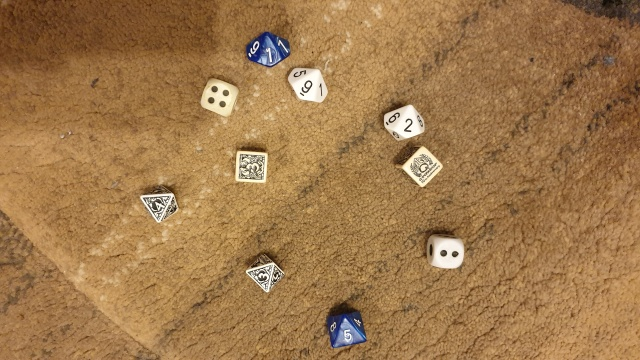d10-1: (244, 28, 296, 71)
d10-2: (379, 101, 427, 141)
d10-5: (326, 301, 366, 353)
d10-9: (285, 63, 332, 107)
d6-2: (426, 230, 465, 272)
d6-4: (195, 76, 239, 117)
d6p-3: (233, 148, 270, 186)
d6p-6: (396, 142, 442, 193)
d8p-3: (242, 247, 284, 296)
d8p-4: (138, 182, 180, 226)
